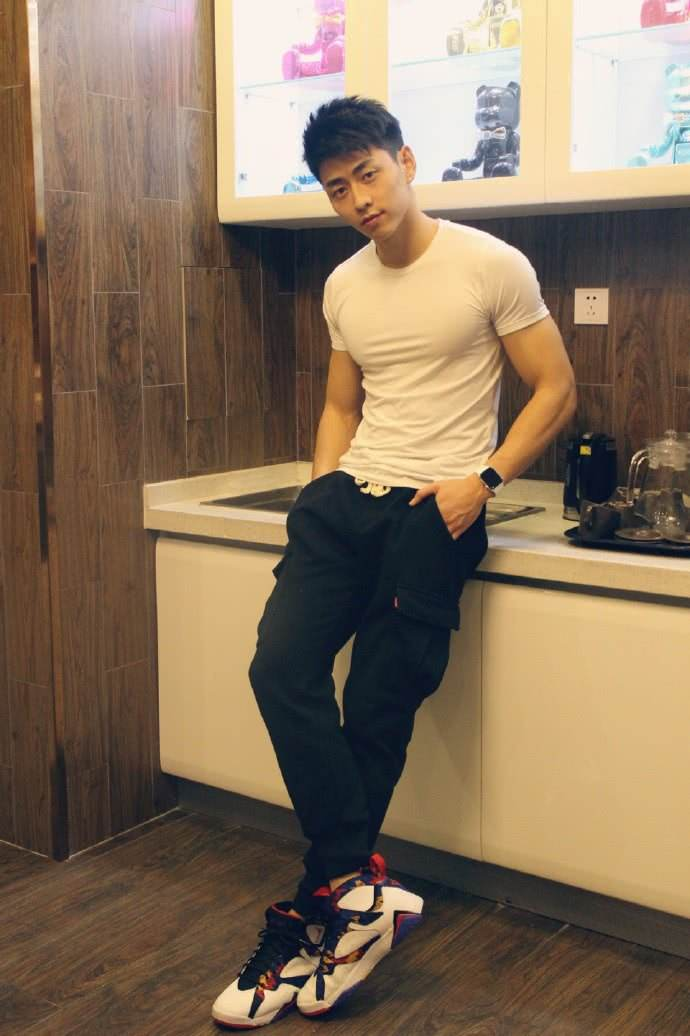person: (182, 110, 518, 1000)
